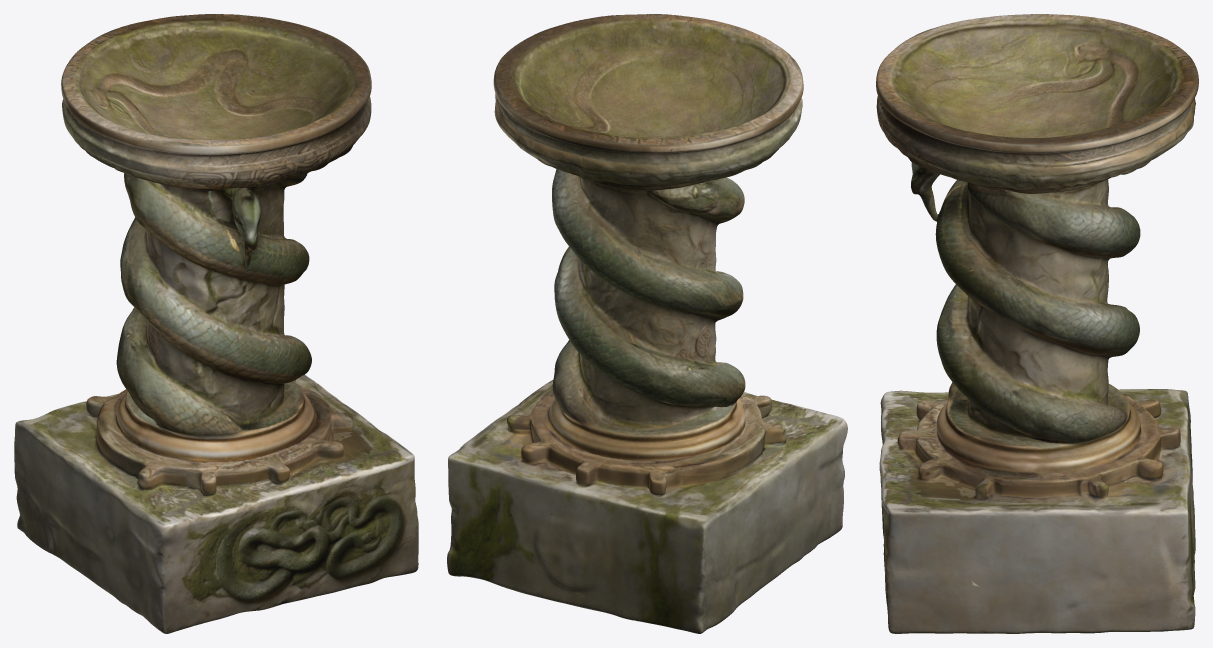
The model's file is An_ancient_ceremonial_0613160015_texture.fbx.
3 views of the same model, side by side, from view 1: azimuth 30°, elevation 25°; view 2: azimuth 150°, elevation 25°; view 3: azimuth 270°, elevation 25° (orthographic). The views are drawn at different scales.
Visible parts, largest first — view 1: Mesh1_Mesh1.017; view 2: Mesh1_Mesh1.017; view 3: Mesh1_Mesh1.017.
Boxes of the visible parts, x1,y1,x2,y2 form: Mesh1_Mesh1.017: [14, 14, 418, 633]; Mesh1_Mesh1.017: [447, 14, 847, 633]; Mesh1_Mesh1.017: [876, 14, 1198, 633].
Bounding box in the file's own units: 118 × 200 × 118.
Materials: 1 (1 with a texture image).
